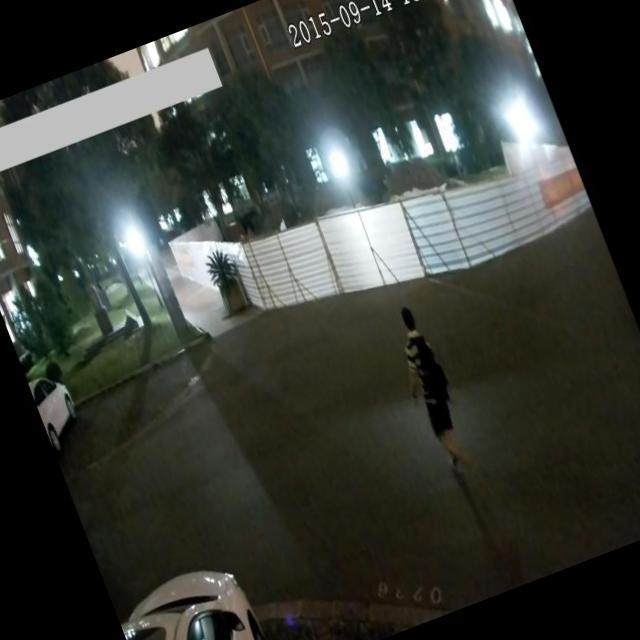person: (376, 296, 489, 490)
